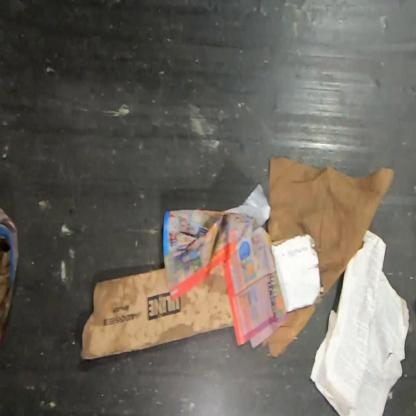cardboard: (80, 262, 234, 360), (269, 234, 321, 313)
soft_plastic: (224, 183, 271, 227)
